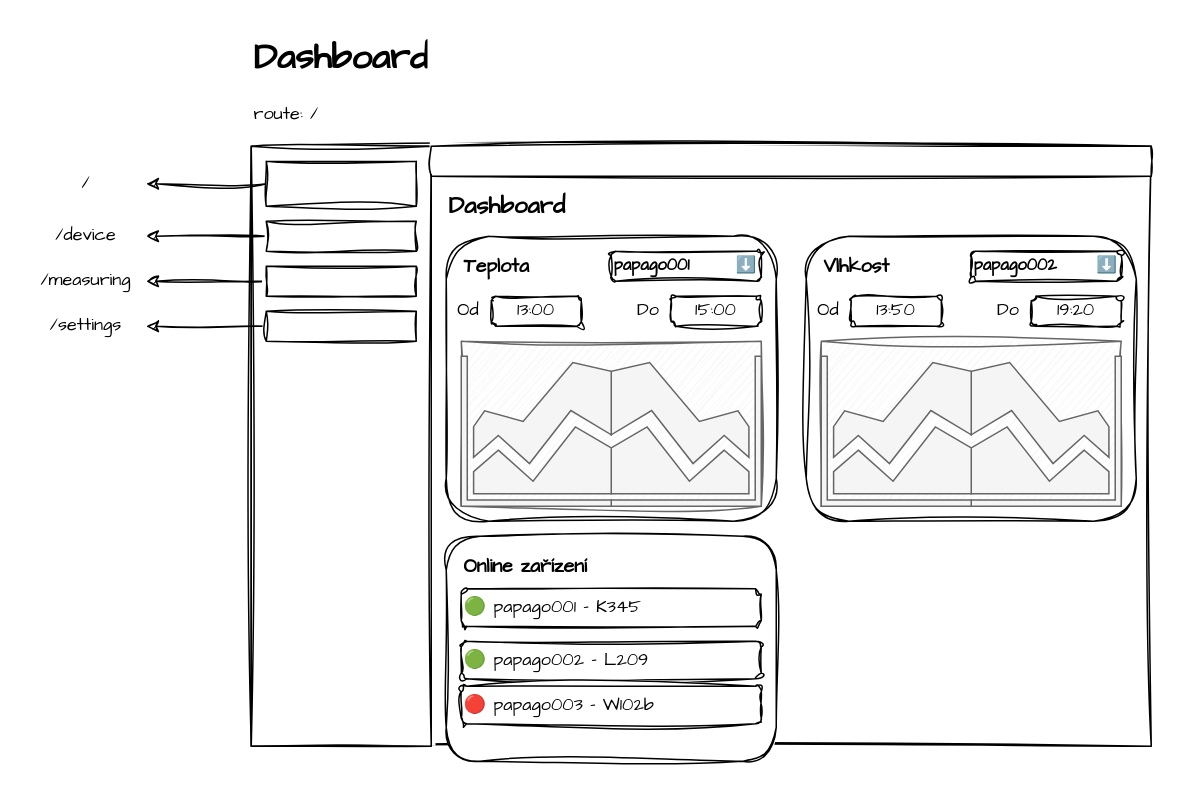
The diagram is 1178 pixels wide and 788 high, and some of its shapes have lost their labels. The shapes that lost their labels are listed below. From the top down, each one's centre as x and y in pixels, then its label:
At point (340, 183): "Papago".
At point (340, 235): "Zařízení".
At point (340, 280): "Měření".
At point (340, 325): "Nastavení".
